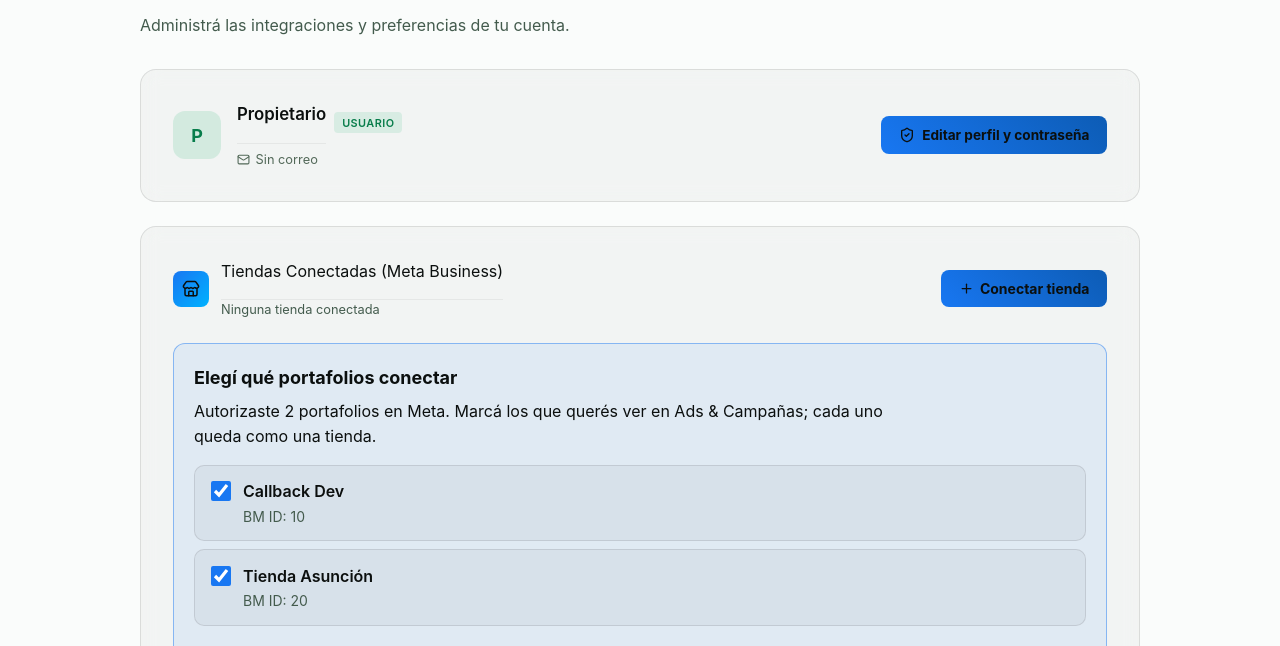
Settings: elegir portafolios de Meta › muestra todos los portafolios y conecta solo los marcados
Expected: the heading "Elegí qué portafolios conectar" is shown, [194, 367, 457, 388]
Click the checkbox labelled "Callback Dev BM ID: 10" at (221, 491), box [211, 481, 231, 501]
(page scrolled)
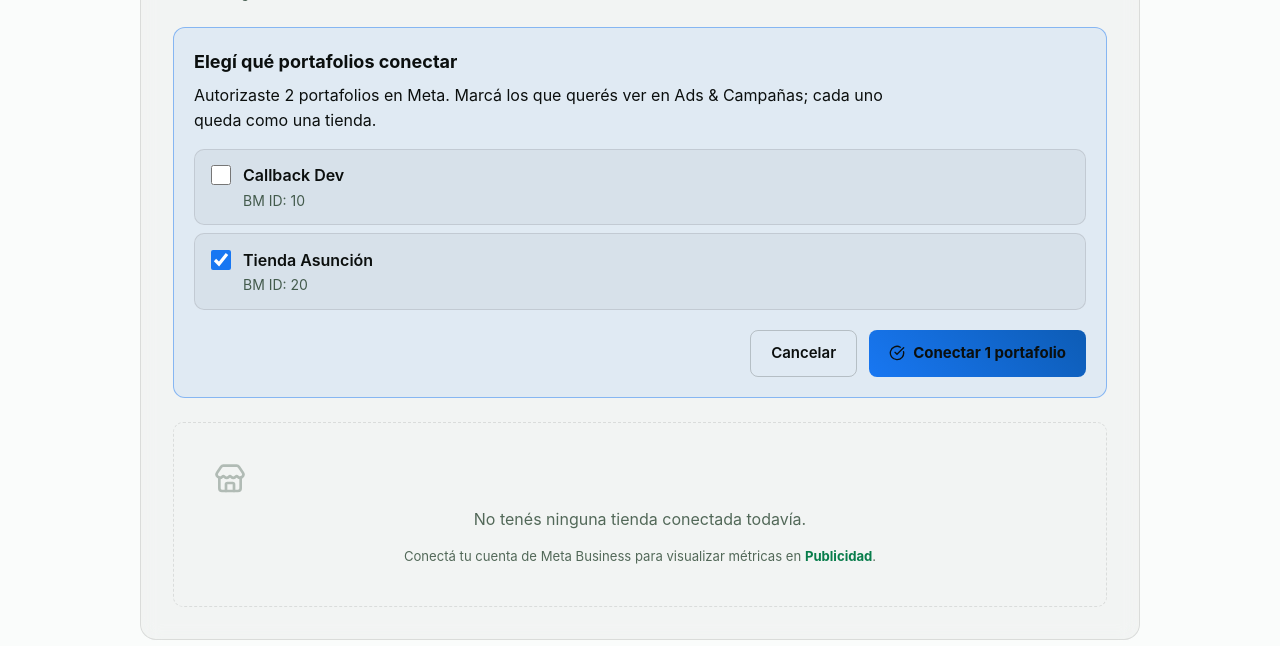
Click the button "Conectar 1 portafolio" at (978, 353), box [869, 330, 1086, 377]
(page scrolled)
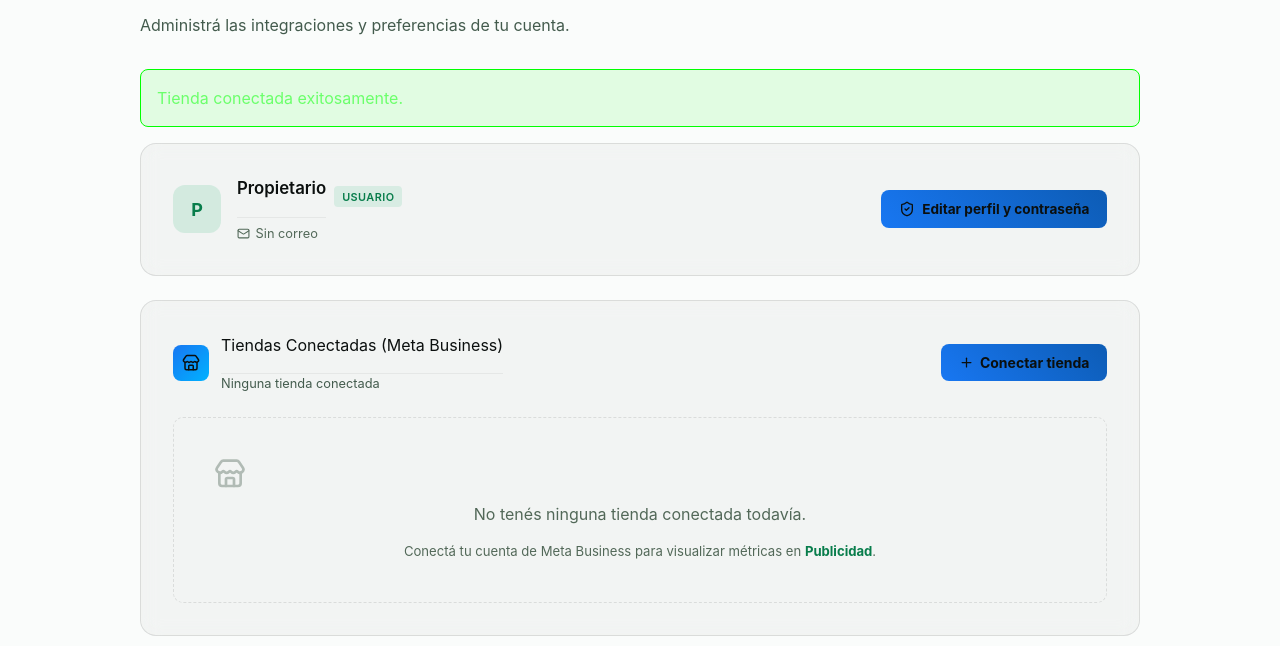
Now the text "Tienda conectada exitosamente." is shown, box [140, 69, 1140, 127]
Now the heading "Elegí qué portafolios conectar" is gone
